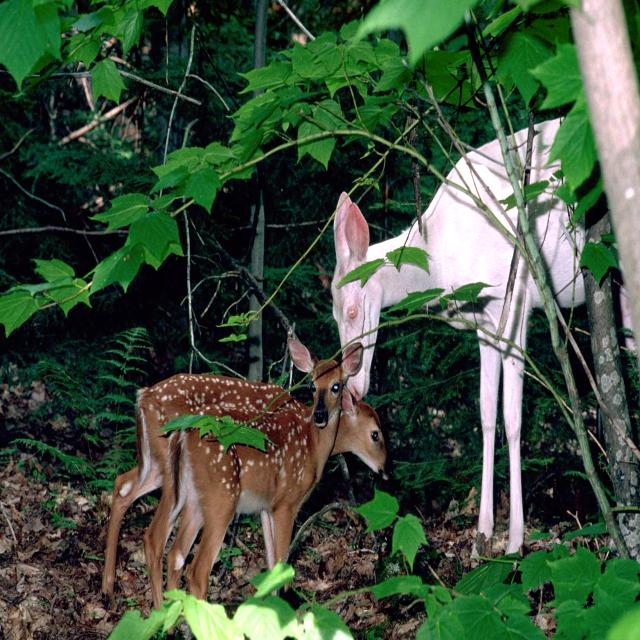deer: (92, 359, 409, 607), (300, 187, 462, 382), (333, 390, 397, 482)
